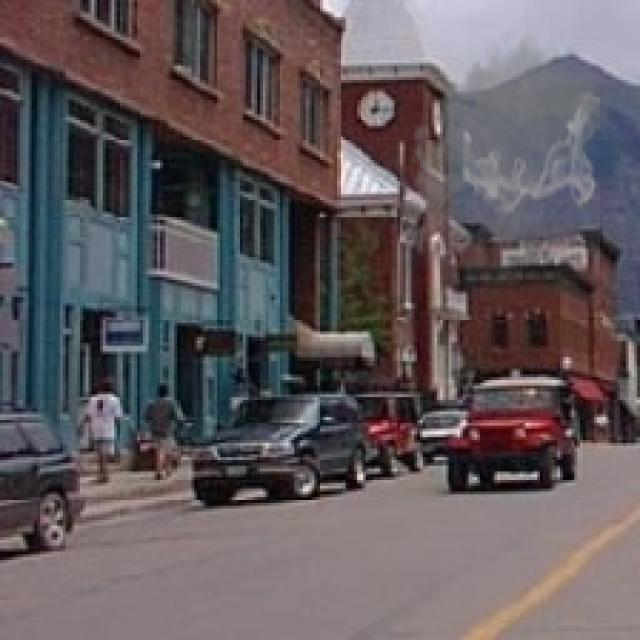Smoke: (400, 23, 603, 286)
